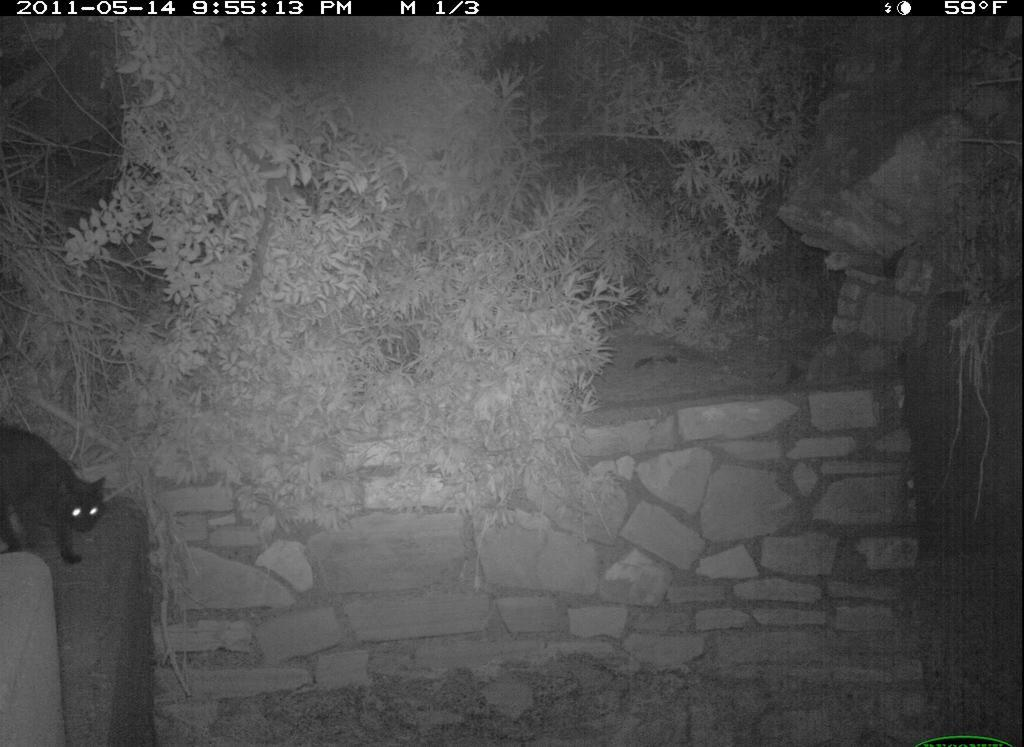cat: (1, 427, 113, 572)
